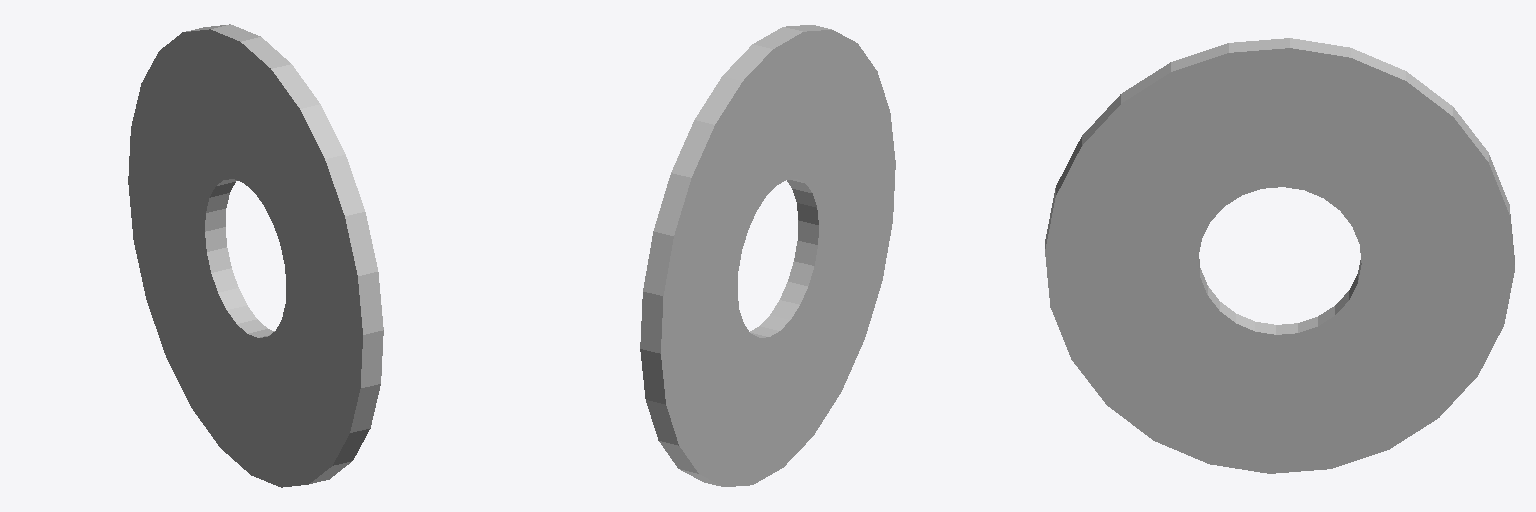
Rendered from original-22.obj.
The picture shows the model from 3 angles: view 1: azimuth 30°, elevation 25°; view 2: azimuth 150°, elevation 25°; view 3: azimuth 270°, elevation 25°; orthographic projection.
Visible parts, largest first — view 1: Group11/mesh11/mesh11-geometry#mesh11-geometry; view 2: Group11/mesh11/mesh11-geometry#mesh11-geometry; view 3: Group11/mesh11/mesh11-geometry#mesh11-geometry.
Part boxes in pixels (bbox=[...]): Group11/mesh11/mesh11-geometry#mesh11-geometry: bbox=[128, 24, 383, 487]; Group11/mesh11/mesh11-geometry#mesh11-geometry: bbox=[640, 25, 895, 486]; Group11/mesh11/mesh11-geometry#mesh11-geometry: bbox=[1045, 38, 1514, 473].
Bounding box in the file's own units: 0.003 × 0.0588 × 0.0588.